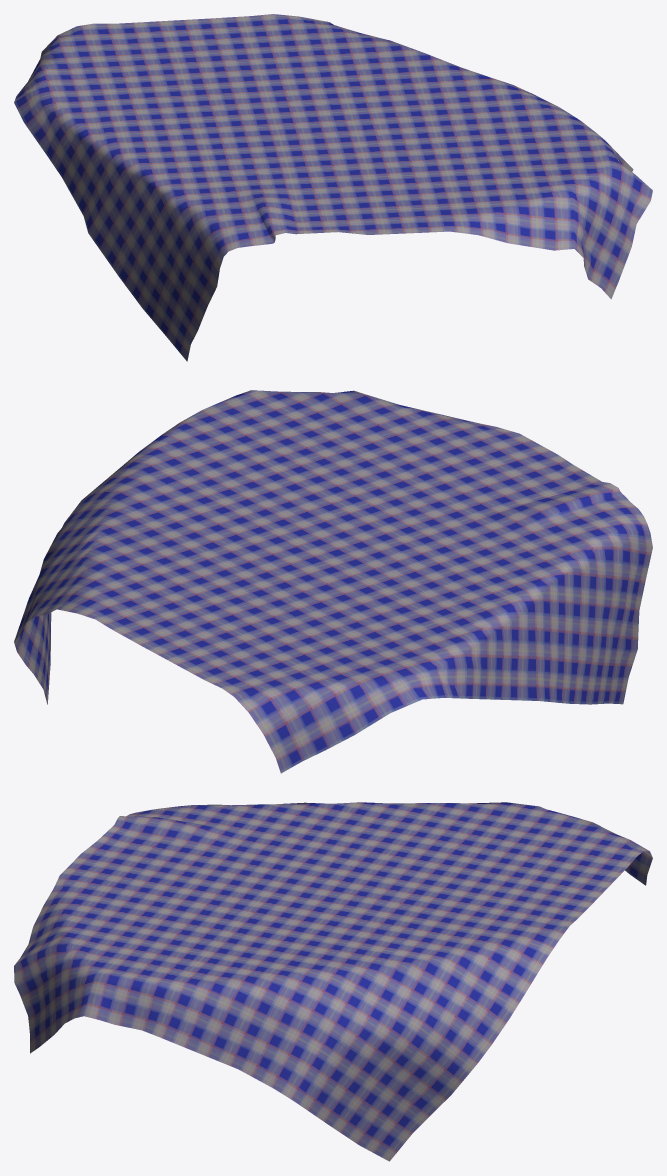
File: a_com_nushi01_picnic01.gltf
3 renders of one model, top to bottom at view 1: azimuth 30°, elevation 25°; view 2: azimuth 150°, elevation 25°; view 3: azimuth 270°, elevation 25°, orthographic. The views are drawn at different scales.
Parts seen in each view (by area): view 1: pi_placemat01_mesh_shape:a_com_nushi01_cloth01_01_; view 2: pi_placemat01_mesh_shape:a_com_nushi01_cloth01_01_; view 3: pi_placemat01_mesh_shape:a_com_nushi01_cloth01_01_.
Part boxes in pixels (x1,y1,x2,y2): pi_placemat01_mesh_shape:a_com_nushi01_cloth01_01_: [14, 14, 652, 361]; pi_placemat01_mesh_shape:a_com_nushi01_cloth01_01_: [14, 390, 652, 773]; pi_placemat01_mesh_shape:a_com_nushi01_cloth01_01_: [14, 802, 652, 1161].
Size of the model in its own units: 1.75 by 0.6503 by 2.13.
1 material, 1 textured.
